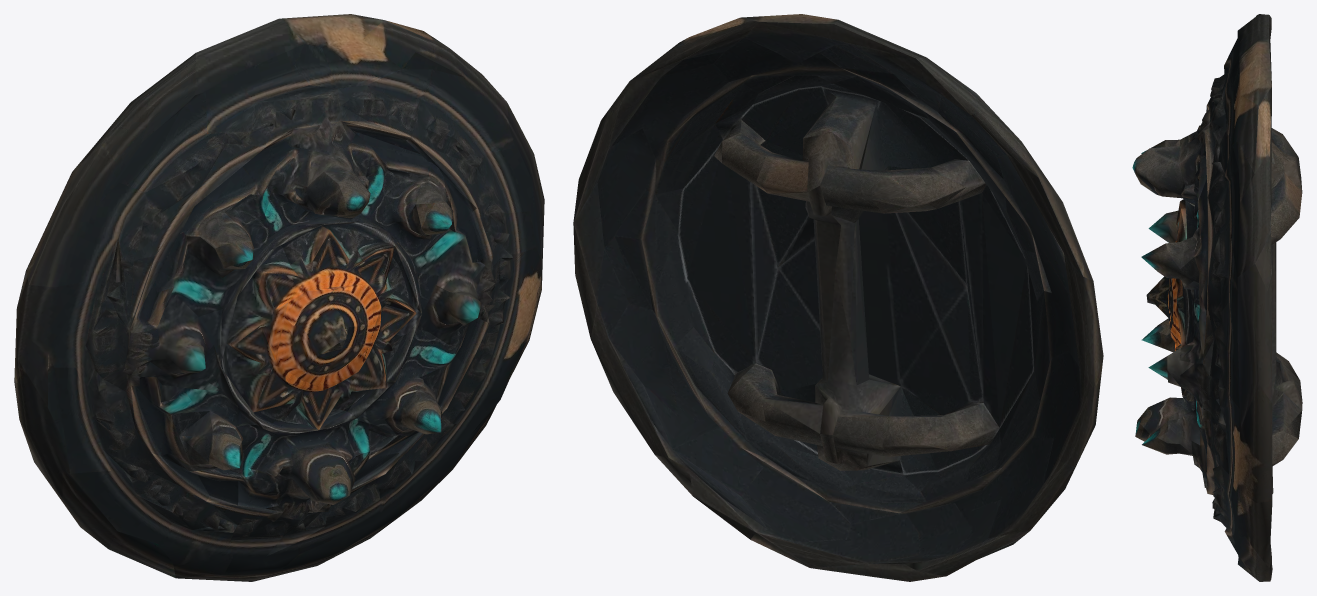
Rendered from yodha_dhal.glb.
The picture shows the model from 3 angles, left to right: view 1: azimuth 30°, elevation 25°; view 2: azimuth 150°, elevation 25°; view 3: azimuth 270°, elevation 25°; orthographic projection. The views are drawn at different scales.
Visible parts, largest first — view 1: Mesh_0; view 2: Mesh_0; view 3: Mesh_0.
Part boxes in pixels (x1,y1,x2,y2): Mesh_0: [14, 14, 544, 581]; Mesh_0: [573, 14, 1103, 581]; Mesh_0: [1132, 14, 1302, 581].
Bounding box in the file's own units: 0.6558 × 0.6575 × 0.196.
1 material, 1 textured.
